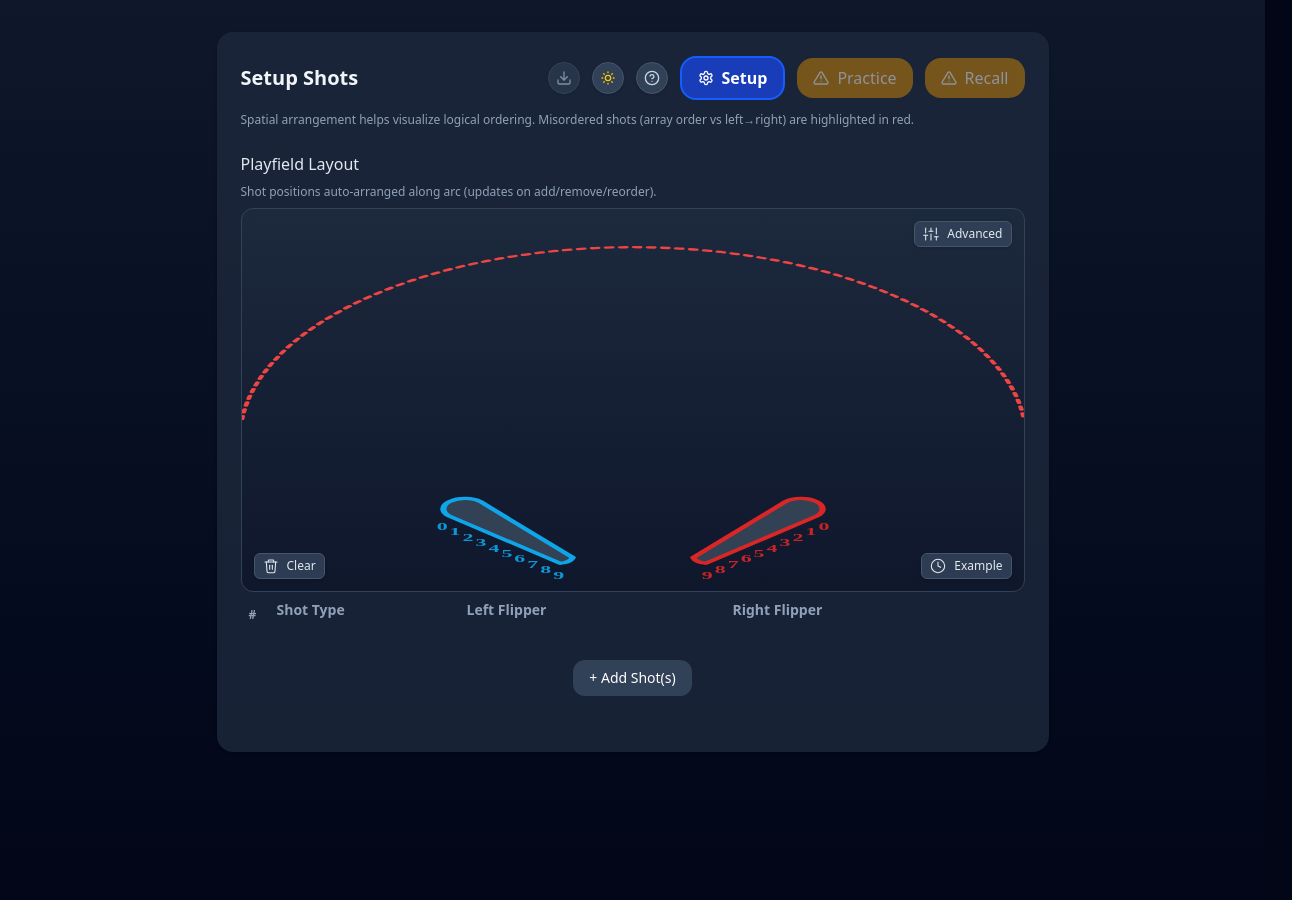
App - Edge Cases and Comprehensive Coverage Tests › Helper Functions Edge Cases › should handle format2 with edge case values
The image size is (1292, 900).
Expected: the heading "Setup Shots" is shown, top-left (240, 64), bottom-right (358, 92)
Click the button with aria-label "load example shots" at (966,566), box top-left (921, 553), bottom-right (1012, 579)
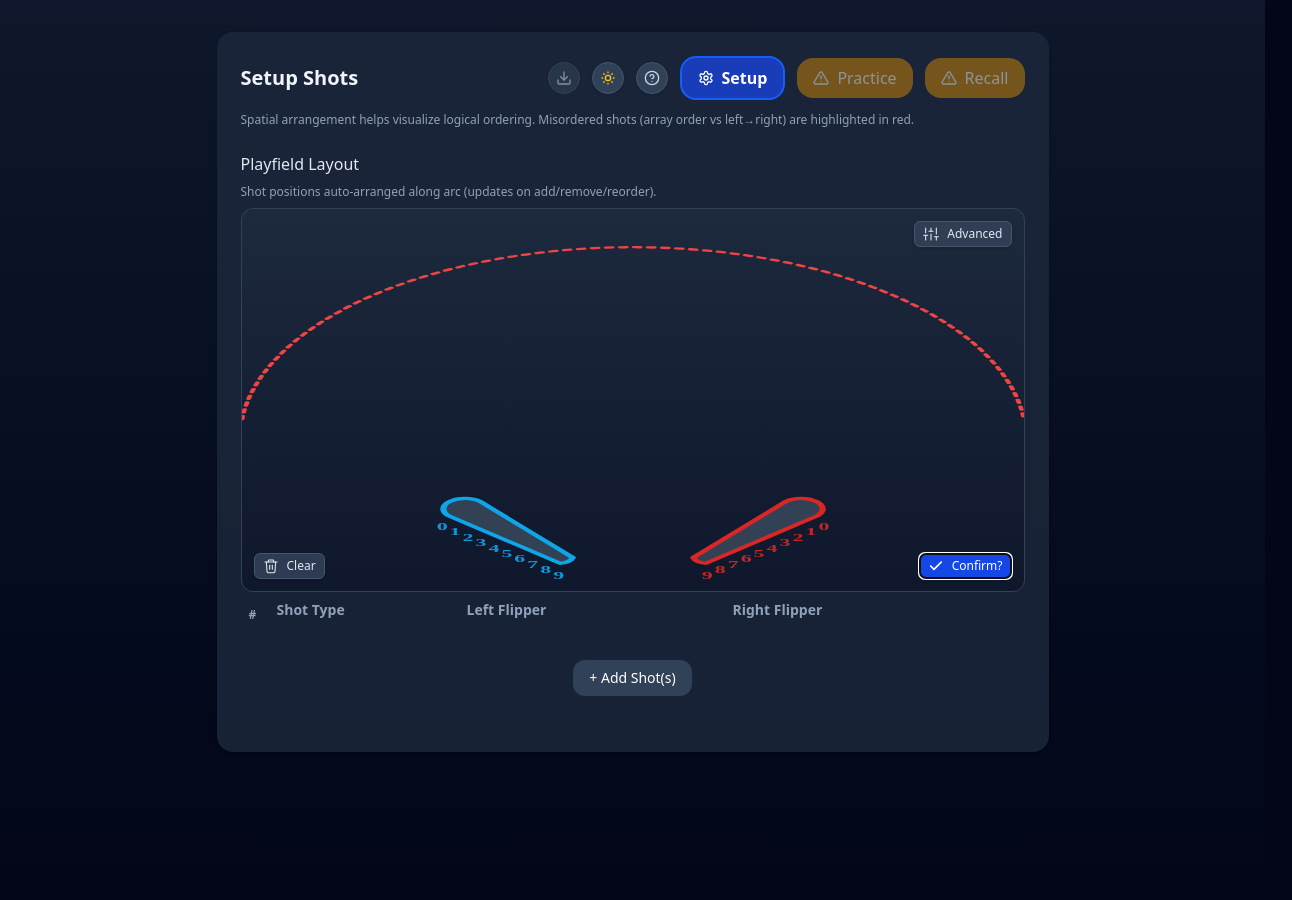
Click the button with aria-label "confirm load example shots" at (965,566), box top-left (919, 553), bottom-right (1012, 579)
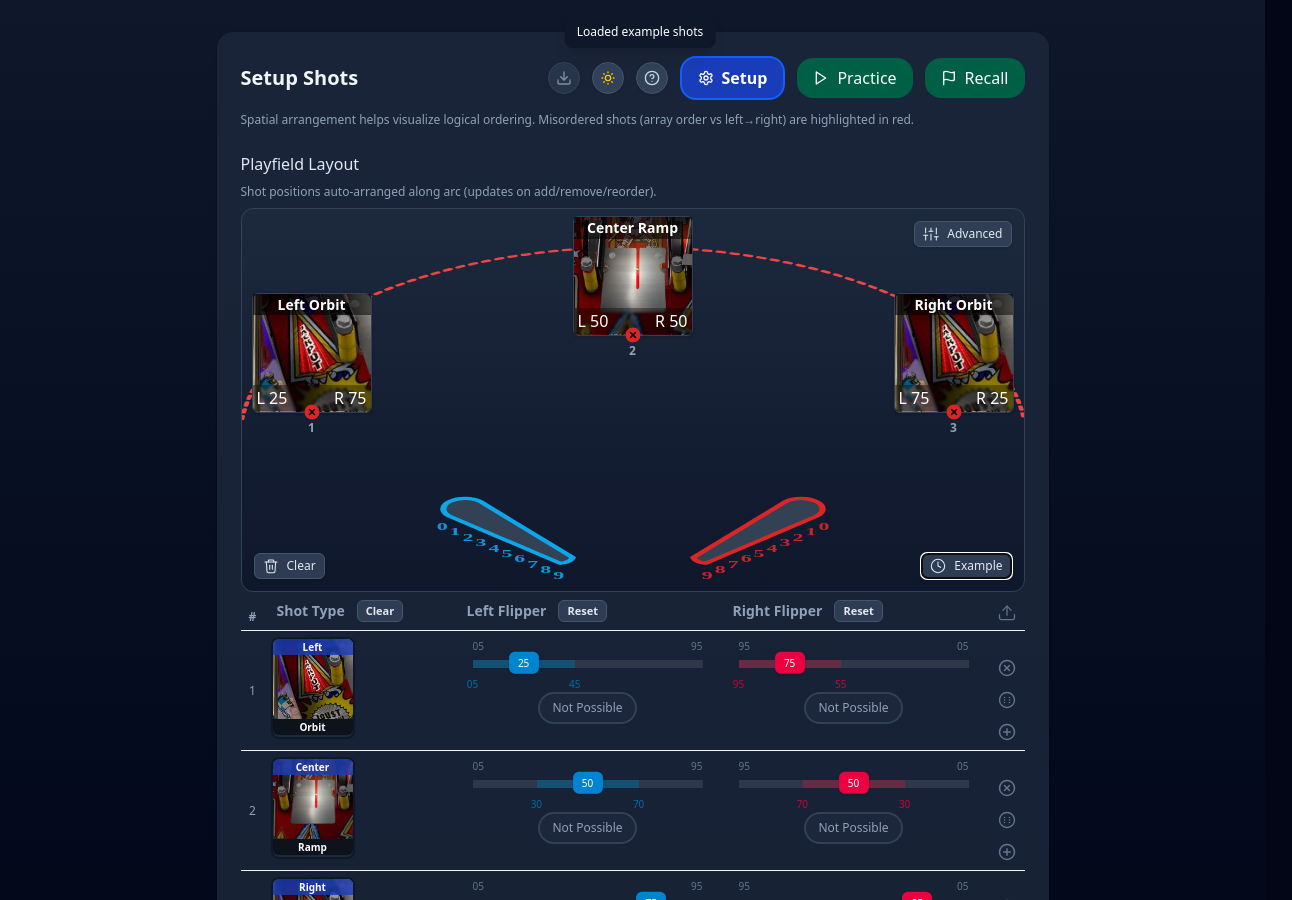
Click the button "Practice" at (855,78), box top-left (797, 58), bottom-right (913, 98)
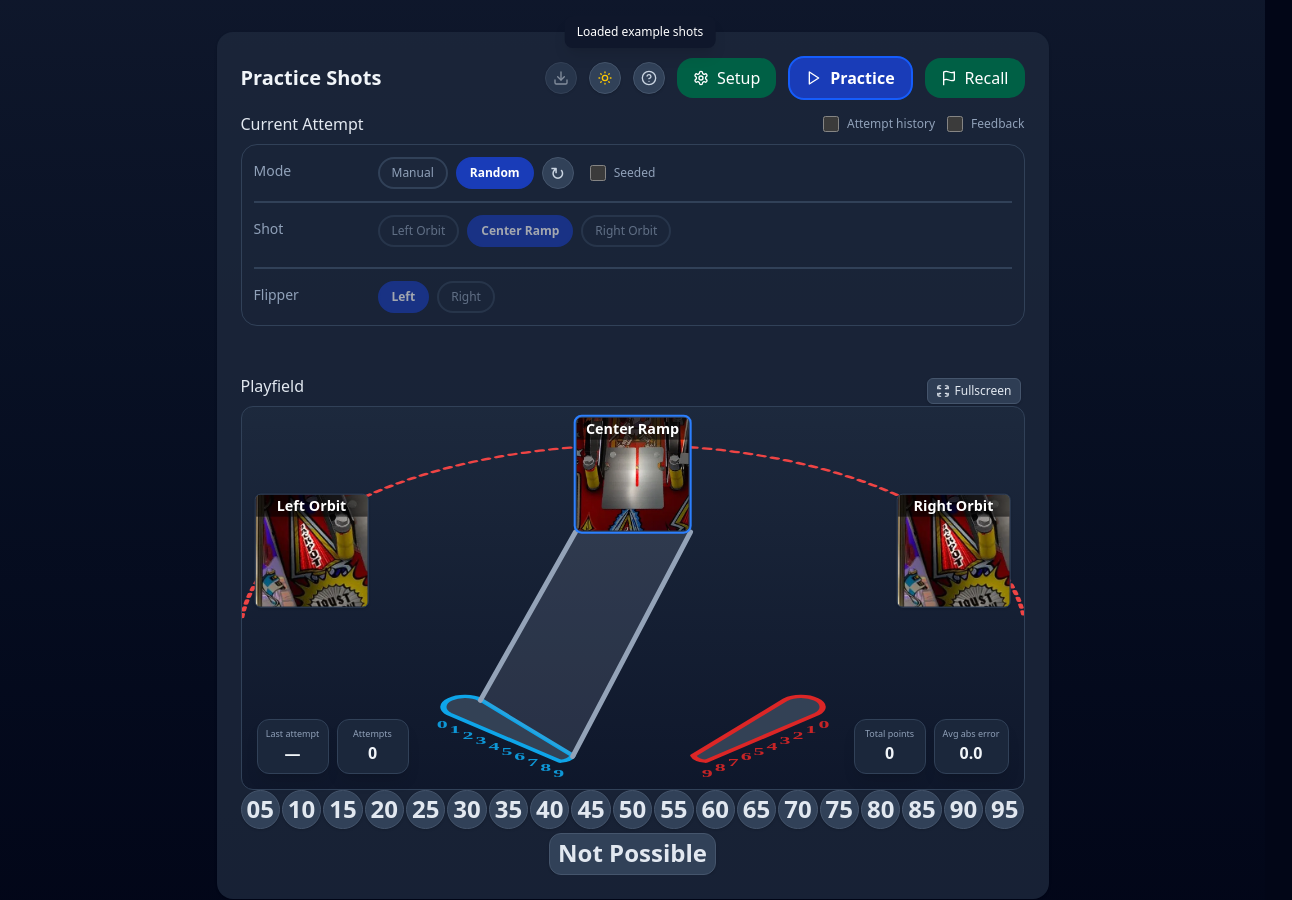
Result: the heading "Practice Shots" is shown at top-left (240, 64), bottom-right (381, 92)
